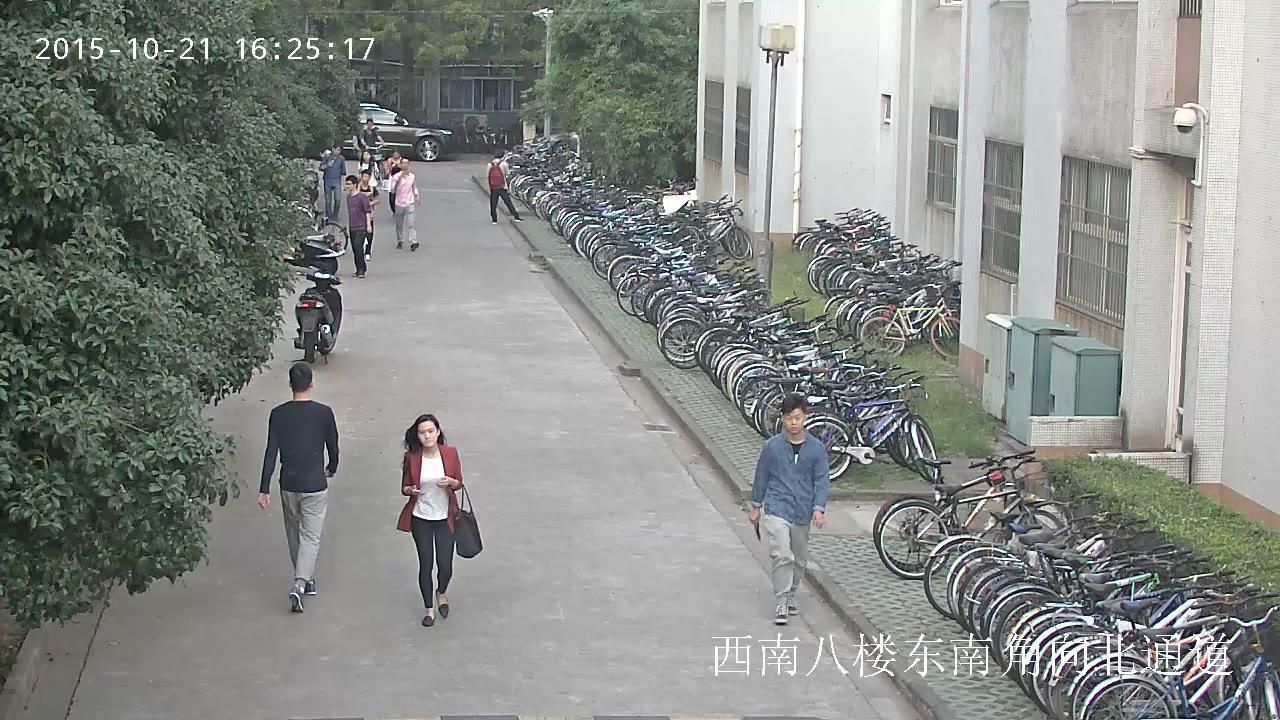person: (257, 363, 339, 612), (749, 394, 828, 624), (397, 415, 482, 626), (345, 174, 372, 279), (487, 149, 524, 224), (390, 157, 419, 252), (357, 169, 382, 260), (385, 150, 415, 222), (355, 117, 389, 180), (319, 144, 346, 223), (359, 117, 384, 176)
